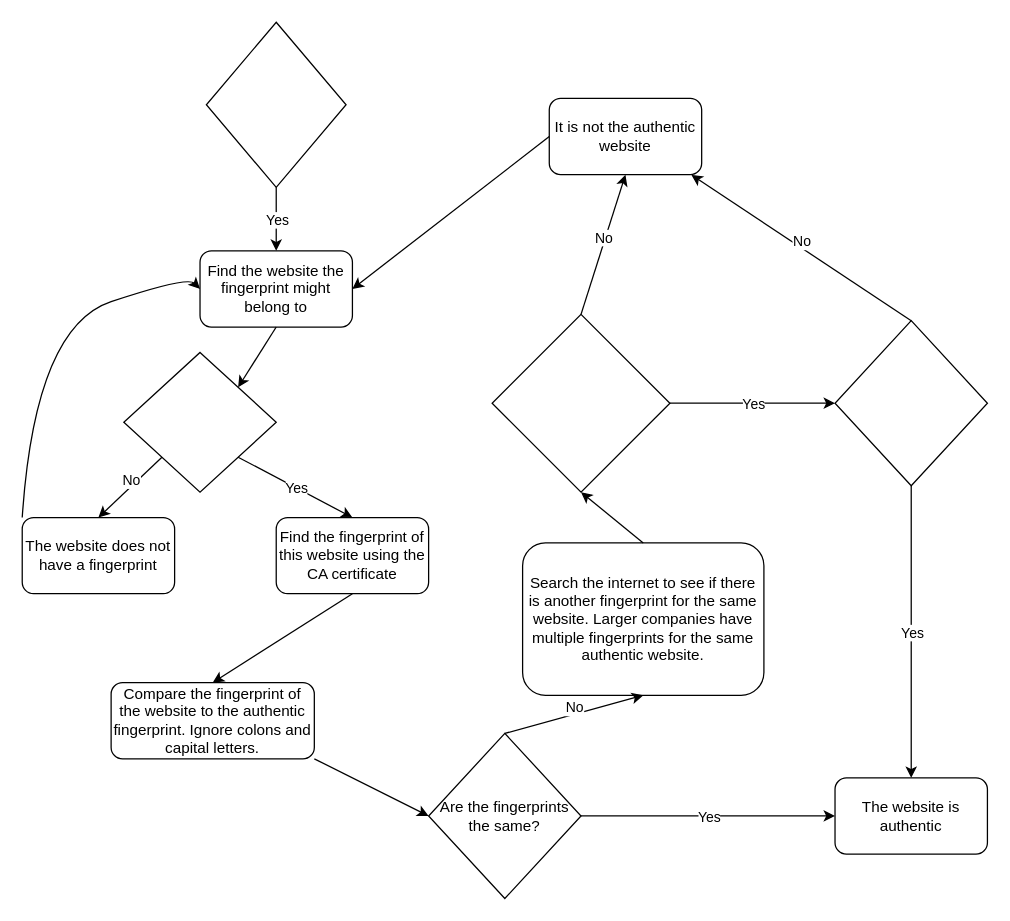
Image size: 1010x921. Some labels were removed from this diagram. Each missing label, with the centre of its shape:
Are there multiple authentic fingerprints for the same website?: [580,402]
Do any of the fingerprints match the authentic fingerprint?: [910,402]
Do you have an authentic fingerprint?: [275,104]
Is the website secure and does it use HTTPS?: [199,421]
